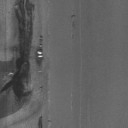slag inclusion: (0, 0, 36, 121), (2, 102, 43, 128), (34, 32, 45, 69), (71, 12, 76, 41), (38, 85, 43, 89)
